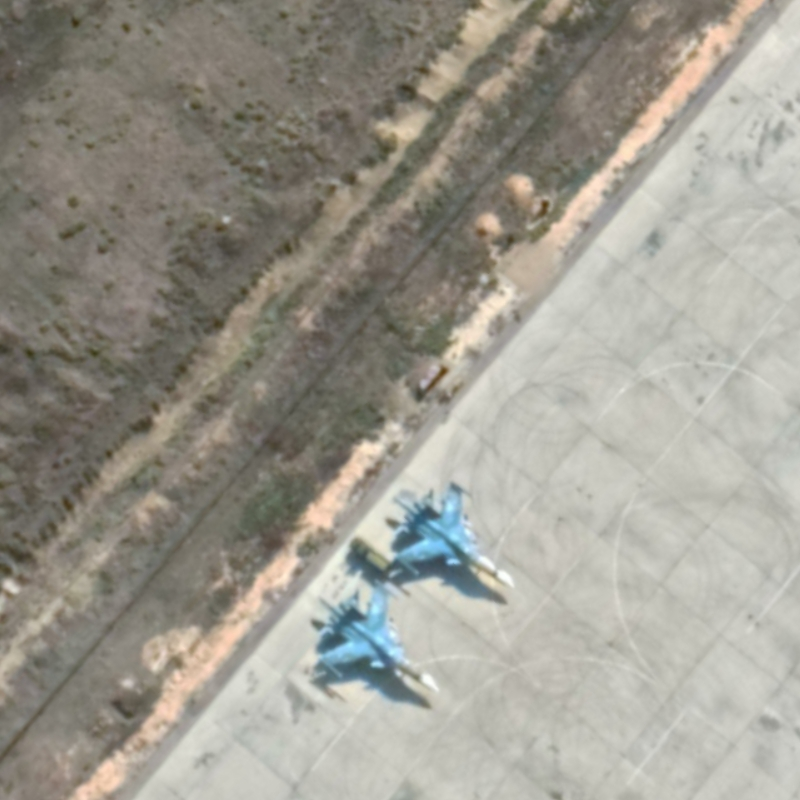A19: (306, 577, 442, 706), (380, 476, 520, 594)
